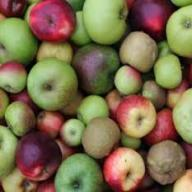apple: (22, 64, 78, 109), (72, 44, 118, 94), (12, 134, 60, 180), (80, 116, 123, 158), (28, 1, 76, 38), (148, 136, 186, 182), (114, 32, 160, 67), (116, 96, 158, 134), (2, 101, 40, 136)
